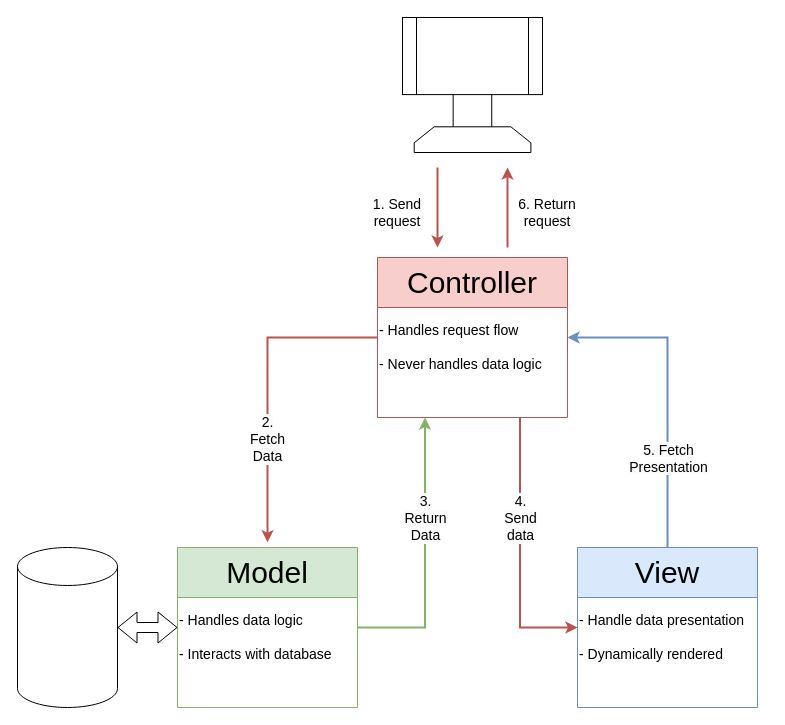
This 785x725 diagram has some shape labels left out. The shapes that lost their labels are listed below. From the top down, each one's centre as x and y in pixels, then its label:
the point at 472,55: End User
the point at 67,627: Database
